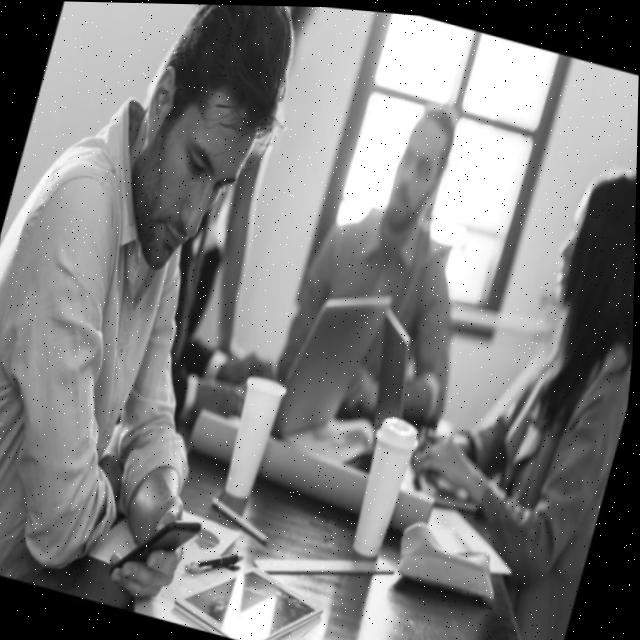phone: (108, 499, 206, 595), (185, 537, 248, 585)
